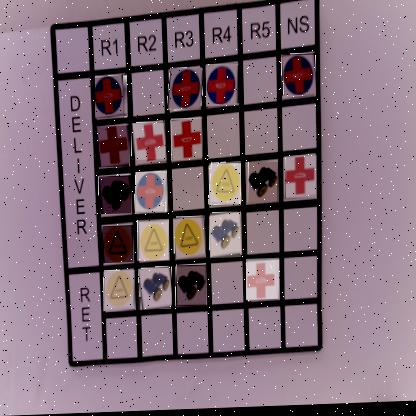OrderBlue: (169, 70, 204, 113), (283, 57, 317, 100), (136, 173, 169, 217), (97, 76, 129, 121), (207, 66, 241, 108)
OrderGurney: (211, 215, 243, 262), (140, 269, 174, 313), (249, 164, 280, 207), (177, 267, 208, 310), (100, 177, 133, 217)
OrderRed: (97, 127, 131, 170), (248, 261, 282, 304), (172, 120, 205, 164), (286, 160, 318, 203), (133, 124, 167, 163)
OrderYellow: (174, 219, 207, 264), (210, 165, 243, 209), (138, 221, 171, 264), (104, 272, 137, 314), (103, 227, 135, 266)
